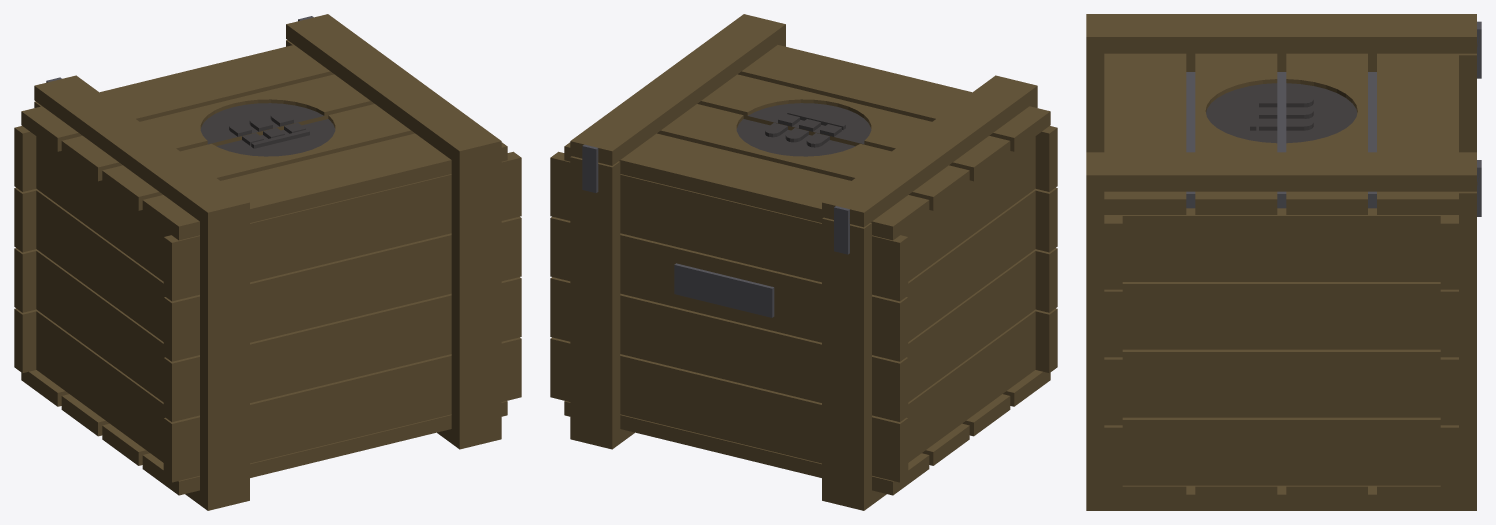
File: Ammo-Item-Large.fbx
3 renders of one model, left to right at view 1: azimuth 30°, elevation 25°; view 2: azimuth 150°, elevation 25°; view 3: azimuth 270°, elevation 25°, orthographic. The views are drawn at different scales.
Parts seen in each view (by area): view 1: Ammo-Item-Large; view 2: Ammo-Item-Large; view 3: Ammo-Item-Large.
Part boxes in pixels (x1,y1,x2,y2): Ammo-Item-Large: (14,14,521,510); Ammo-Item-Large: (550,14,1057,510); Ammo-Item-Large: (1086,14,1481,510).
Bounding box in the file's own units: 250 × 204 × 218.
